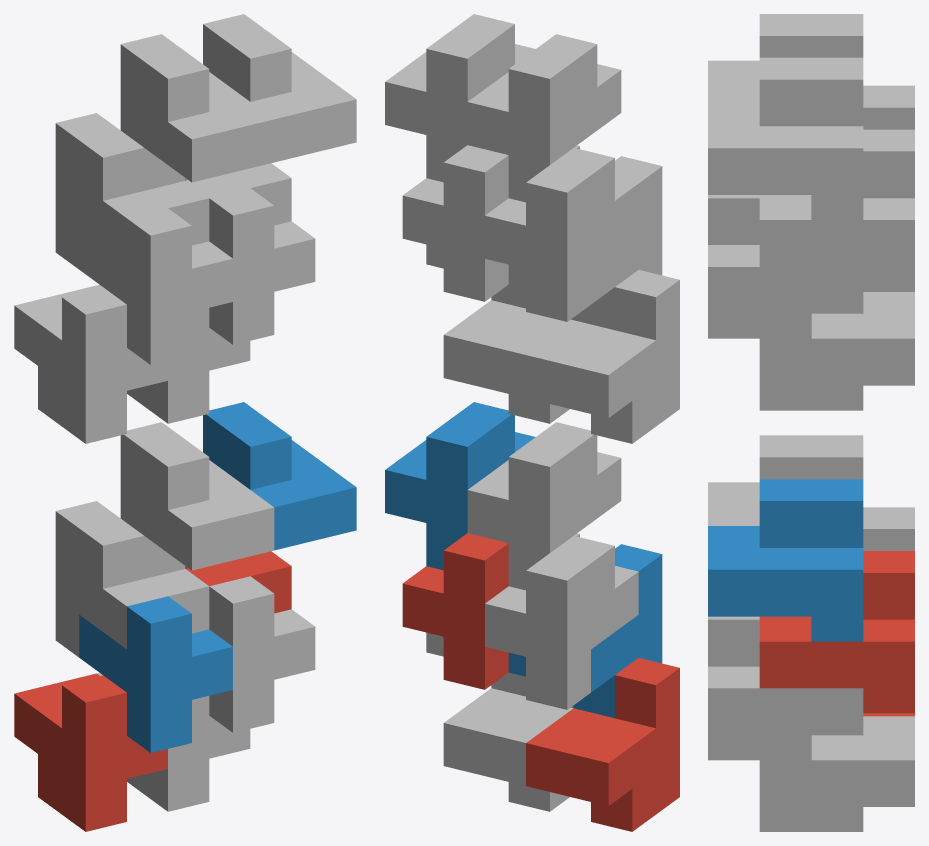
The model's file is tiling.obj.
3 views of the same model, side by side, from view 1: azimuth 30°, elevation 25°; view 2: azimuth 150°, elevation 25°; view 3: azimuth 270°, elevation 25° (orthographic). The views are drawn at different scales.
Visible parts, largest first — view 1: copy_2_domain_4, copy_2_domain_2, copy_1_domain_3, copy_1_domain_1, copy_1_domain_2, copy_1_domain_4, copy_2_domain_3, copy_2_domain_1, copy_2_domain_8, copy_2_domain_6, copy_1_domain_6, copy_1_domain_8 (+4 smaller); view 2: copy_1_domain_3, copy_1_domain_1, copy_2_domain_3, copy_2_domain_1, copy_2_domain_4, copy_2_domain_2, copy_2_domain_8, copy_2_domain_6, copy_2_domain_5, copy_2_domain_7, copy_1_domain_7, copy_1_domain_5 (+4 smaller); view 3: copy_2_domain_6, copy_2_domain_8, copy_2_domain_5, copy_2_domain_7, copy_1_domain_6, copy_1_domain_8, copy_1_domain_7, copy_1_domain_5, copy_2_domain_2, copy_2_domain_4, copy_2_domain_3, copy_2_domain_1.
Part boxes in pixels (x1,y1,x2,y2): copy_2_domain_4: [120, 34, 274, 190]; copy_2_domain_2: [120, 422, 274, 578]; copy_1_domain_3: [14, 285, 167, 443]; copy_1_domain_1: [14, 673, 167, 831]; copy_1_domain_2: [79, 596, 232, 752]; copy_1_domain_4: [79, 208, 232, 364]; copy_2_domain_3: [55, 113, 209, 269]; copy_2_domain_1: [55, 501, 209, 657]; copy_2_domain_8: [203, 14, 356, 162]; copy_2_domain_6: [203, 402, 356, 550]; copy_1_domain_6: [209, 576, 315, 732]; copy_1_domain_8: [209, 188, 315, 344]; copy_1_domain_3: [526, 270, 679, 443]; copy_1_domain_1: [526, 658, 679, 831]; copy_2_domain_3: [485, 148, 638, 321]; copy_2_domain_1: [485, 536, 638, 709]; copy_2_domain_4: [467, 34, 621, 202]; copy_2_domain_2: [467, 422, 621, 590]; copy_2_domain_8: [385, 14, 535, 182]; copy_2_domain_6: [385, 402, 535, 570]; copy_2_domain_5: [402, 533, 508, 689]; copy_2_domain_7: [402, 145, 508, 301]; copy_1_domain_7: [443, 300, 573, 423]; copy_1_domain_5: [443, 688, 573, 811]; copy_2_domain_6: [708, 479, 863, 641]; copy_2_domain_8: [708, 57, 863, 219]; copy_2_domain_5: [759, 551, 914, 713]; copy_2_domain_7: [759, 129, 914, 291]; copy_1_domain_6: [708, 616, 863, 760]; copy_1_domain_8: [708, 195, 863, 338]; copy_1_domain_7: [759, 295, 914, 410]; copy_1_domain_5: [759, 716, 914, 831]; copy_2_domain_2: [708, 435, 863, 525]; copy_2_domain_4: [708, 14, 863, 104]; copy_2_domain_3: [863, 85, 914, 129]; copy_2_domain_1: [863, 507, 914, 550].
Size of the model in its own units: 6 by 17 by 4.
